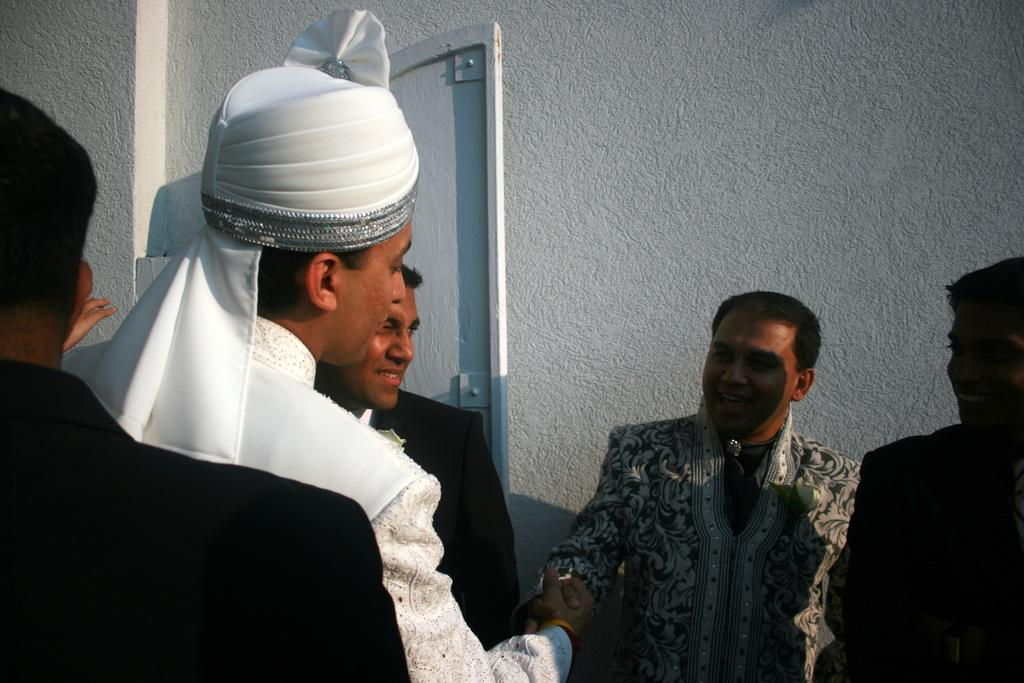Sem Máscara: (334, 216, 411, 368), (699, 313, 794, 431), (942, 300, 1021, 426), (337, 284, 415, 408)
